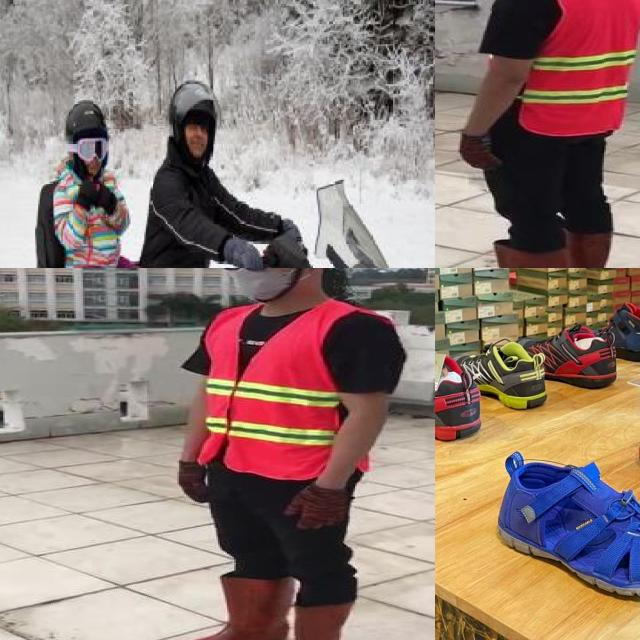Sandals: (482, 433, 640, 601)
boots: (177, 576, 291, 640), (257, 605, 355, 640), (451, 244, 568, 268), (556, 229, 614, 268)
face_mask: (218, 268, 295, 299)
face_nomask: (185, 118, 213, 156)
glasses: (63, 136, 110, 164), (215, 268, 275, 276)
hand_glove: (278, 484, 348, 529), (225, 229, 270, 268), (176, 459, 210, 505), (458, 134, 498, 168), (74, 179, 98, 210), (278, 212, 304, 240), (97, 185, 118, 212)
head_helmet: (166, 74, 224, 130), (60, 96, 114, 142)
person: (162, 268, 407, 640), (435, 0, 640, 268), (128, 66, 294, 268), (40, 89, 149, 268)
vest: (202, 301, 373, 479), (520, 0, 640, 135)
